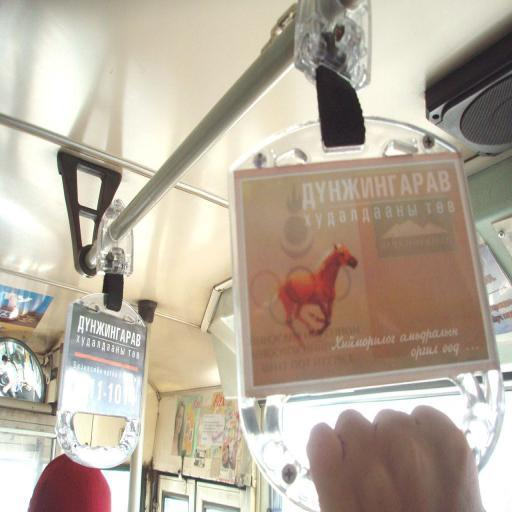horse: (276, 243, 360, 348)
